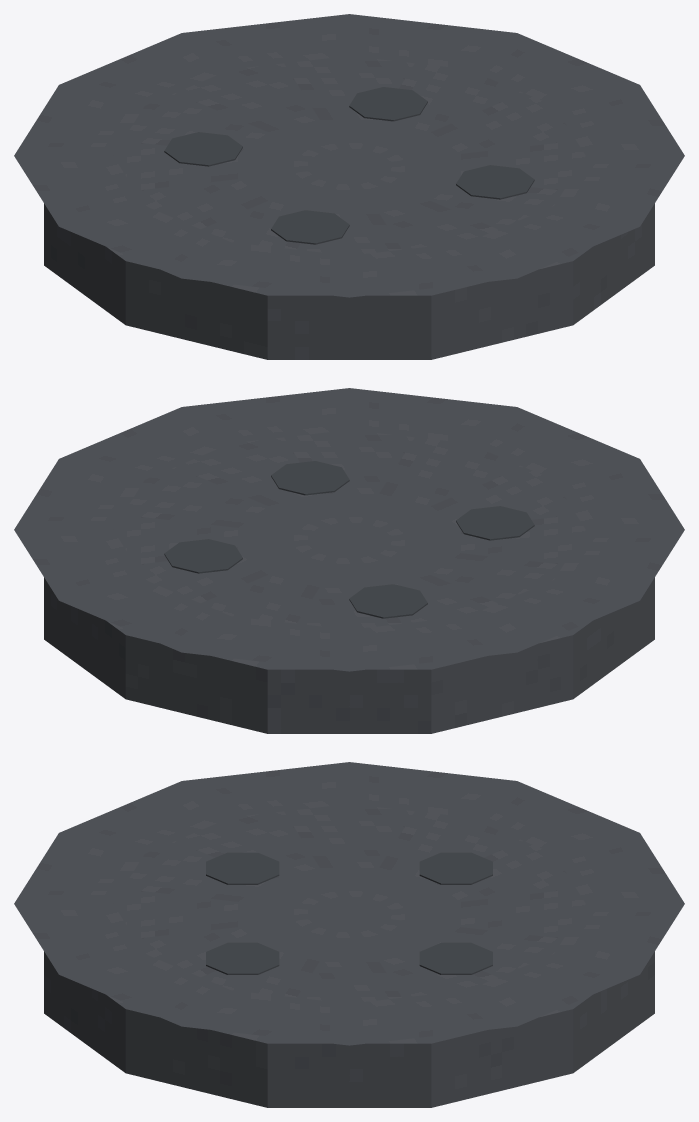
File: button_plastic.glb
3 renders of one model, top to bottom at view 1: azimuth 30°, elevation 25°; view 2: azimuth 150°, elevation 25°; view 3: azimuth 270°, elevation 25°, orthographic.
Parts seen in each view (by area): view 1: block_button face, block_thread hole (×4), block_raised button lip 1, block_raised button lip 6, block_raised button lip 3, block_raised button lip 4, block_raised button lip 9, block_raised button lip 10, block_raised button lip 8, block_raised button lip 11, block_raised button lip 2, block_raised button lip 5 (+2 smaller); view 2: block_button face, block_thread hole (×4), block_raised button lip 5, block_raised button lip 10, block_raised button lip 7, block_raised button lip 1, block_raised button lip 2, block_raised button lip 8, block_raised button lip 0, block_raised button lip 3, block_raised button lip 6, block_raised button lip 9 (+2 smaller); view 3: block_button face, block_thread hole (×4), block_raised button lip 2, block_raised button lip 9, block_raised button lip 0, block_raised button lip 5, block_raised button lip 6, block_raised button lip 11, block_raised button lip 4, block_raised button lip 7, block_raised button lip 1, block_raised button lip 10 (+2 smaller).
Part boxes in pixels (bbox=[...]): block_button face: bbox=[44, 56, 654, 359]; block_thread hole (×4): bbox=[164, 87, 534, 244]; block_raised button lip 1: bbox=[554, 155, 684, 226]; block_raised button lip 6: bbox=[14, 155, 144, 226]; block_raised button lip 3: bbox=[349, 242, 516, 297]; block_raised button lip 4: bbox=[182, 242, 349, 297]; block_raised button lip 9: bbox=[182, 14, 349, 69]; block_raised button lip 10: bbox=[349, 14, 516, 69]; block_raised button lip 8: bbox=[59, 33, 230, 105]; block_raised button lip 11: bbox=[468, 33, 639, 105]; block_raised button lip 2: bbox=[468, 206, 639, 278]; block_raised button lip 5: bbox=[59, 206, 230, 278]; block_button face: bbox=[44, 430, 654, 733]; block_thread hole (×4): bbox=[164, 461, 534, 618]; block_raised button lip 5: bbox=[554, 529, 684, 600]; block_raised button lip 10: bbox=[14, 529, 144, 600]; block_raised button lip 7: bbox=[349, 616, 516, 671]; block_raised button lip 1: bbox=[182, 388, 349, 443]; block_raised button lip 2: bbox=[349, 388, 516, 443]; block_raised button lip 8: bbox=[182, 616, 349, 671]; block_raised button lip 0: bbox=[59, 407, 230, 479]; block_raised button lip 3: bbox=[468, 407, 639, 479]; block_raised button lip 6: bbox=[468, 580, 639, 652]; block_raised button lip 9: bbox=[59, 580, 230, 652]; block_button face: bbox=[44, 804, 654, 1107]; block_thread hole (×4): bbox=[206, 852, 492, 974]; block_raised button lip 2: bbox=[14, 903, 144, 974]; block_raised button lip 9: bbox=[554, 903, 684, 974]; block_raised button lip 0: bbox=[182, 990, 349, 1045]; block_raised button lip 5: bbox=[182, 762, 349, 817]; block_raised button lip 6: bbox=[349, 762, 516, 817]; block_raised button lip 11: bbox=[349, 990, 516, 1045]; block_raised button lip 4: bbox=[59, 781, 230, 853]; block_raised button lip 7: bbox=[468, 781, 639, 853]; block_raised button lip 1: bbox=[59, 954, 230, 1026]; block_raised button lip 10: bbox=[468, 954, 639, 1026].
Size of the model in its own units: 0.0491 by 0.00606 by 0.0491.
1 material, 1 textured.
